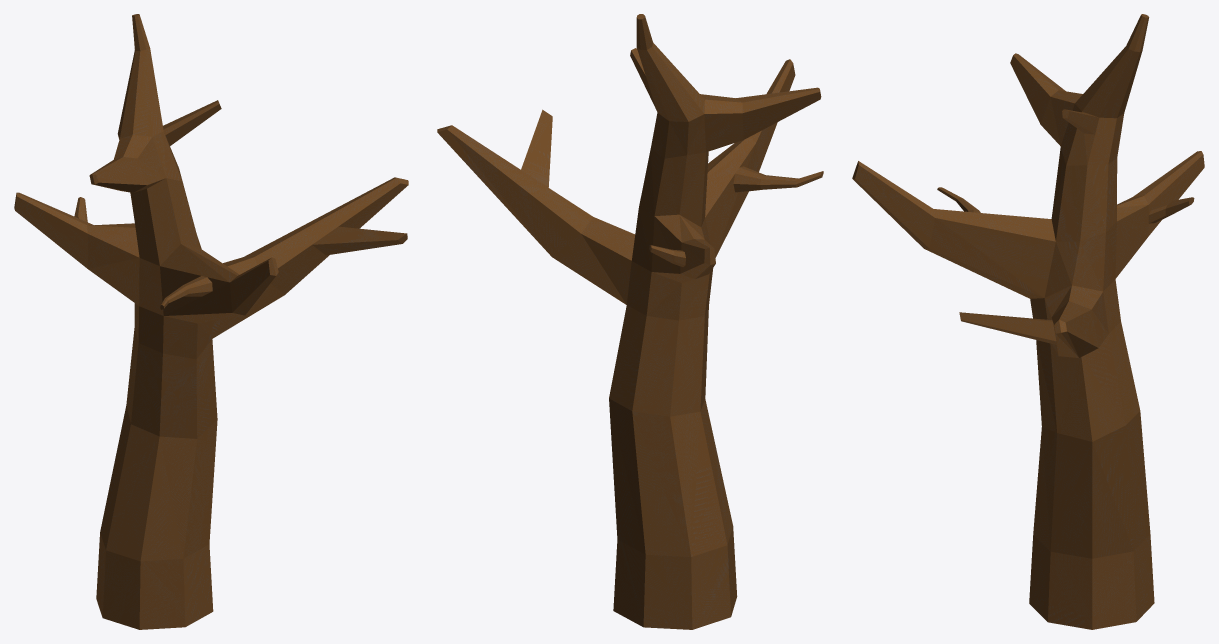
The model's file is Tree_Dead_06.fbx.
3 views of the same model, side by side, from view 1: azimuth 30°, elevation 25°; view 2: azimuth 150°, elevation 25°; view 3: azimuth 270°, elevation 25° (orthographic). The views are drawn at different scales.
Parts seen in each view (by area): view 1: Model; view 2: Model; view 3: Model.
Part boxes in pixels (box(x1,y1,x2,y2)): Model: box(14, 14, 408, 629); Model: box(437, 14, 823, 629); Model: box(852, 14, 1204, 629).
Size of the model in its own units: 445 by 714 by 386.
